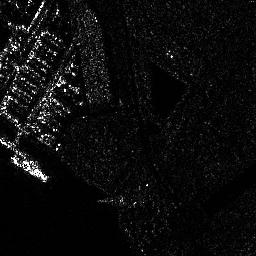ship: (11, 155, 52, 181)
